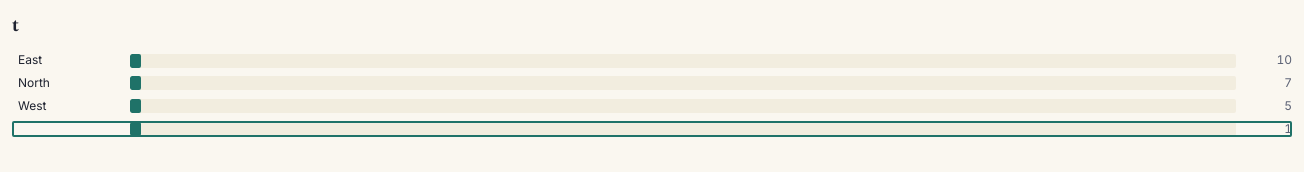
drill review round 1 › the single tab stop survives the data shrinking
Focus the button with class "a2ui-bar" showing "1" at (652, 129), box [12,121,1292,137]
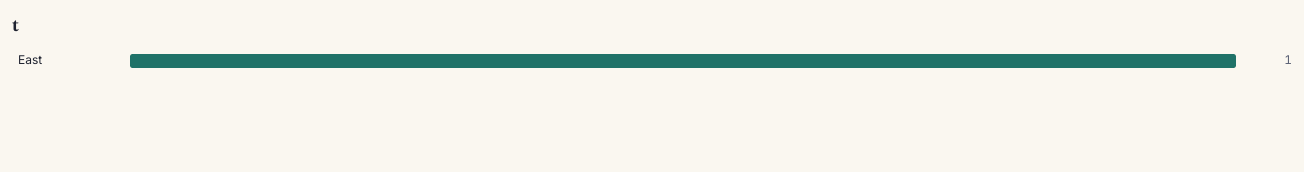
Expected: the number of buttons with class "a2ui-bar" is 1, [12,52,1292,69]
